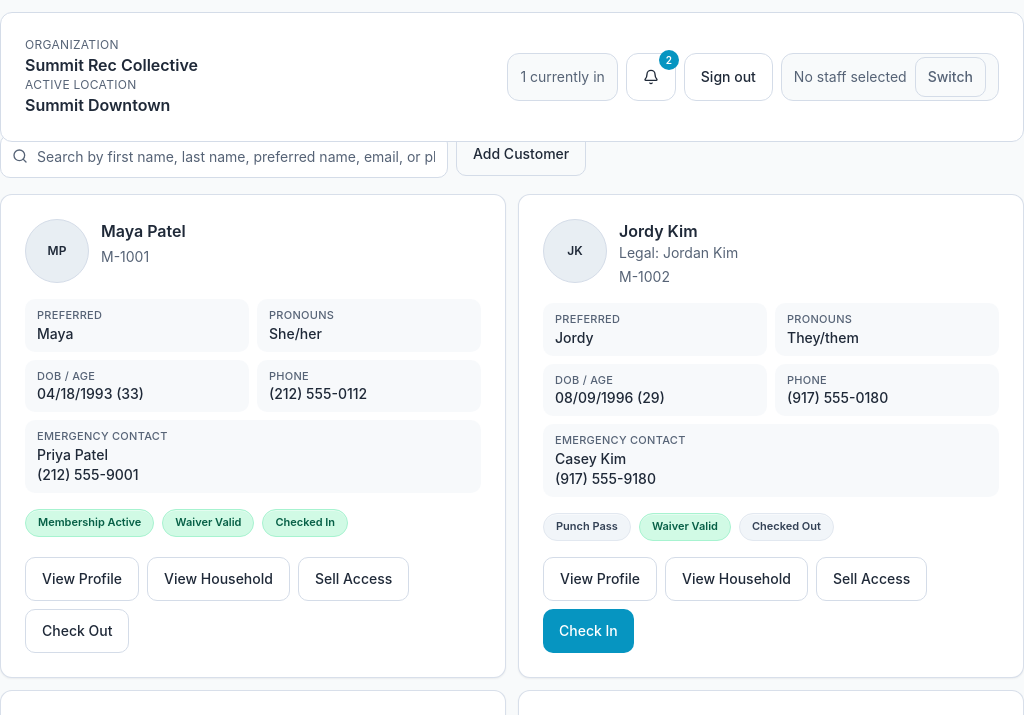
it: CustomerList › customers page check in works with active staff and updates occupancy + badges
Click the button "Switch" at (950, 77), box [915,57,986,97]
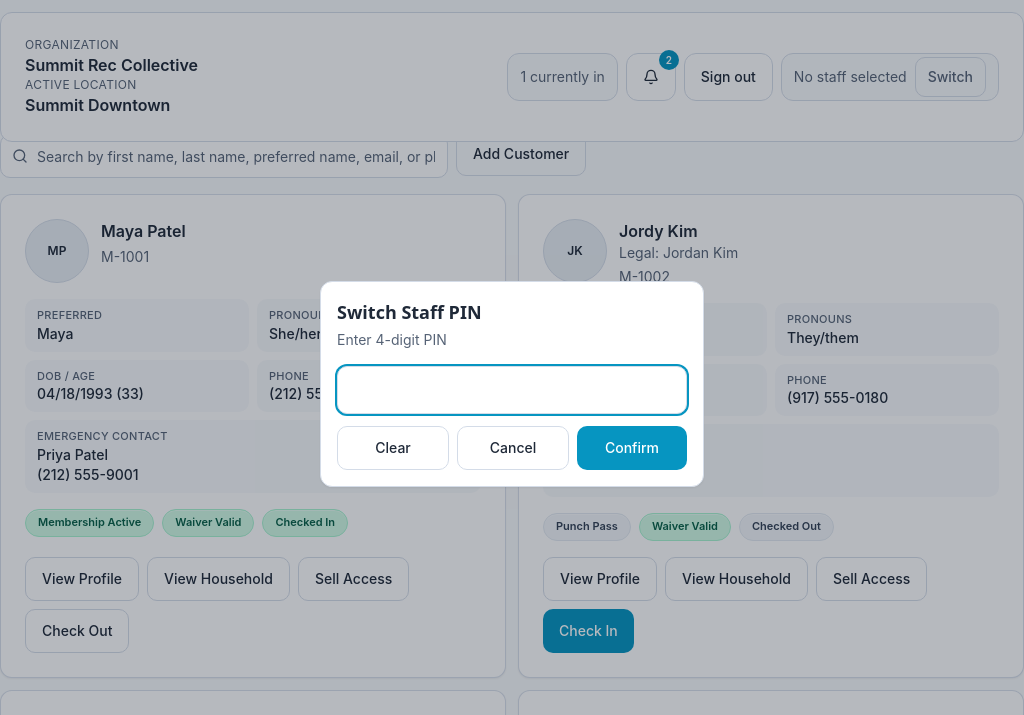
Type "2222" into the password field named "Staff PIN input" at (512, 390), box [337,366,687,414]
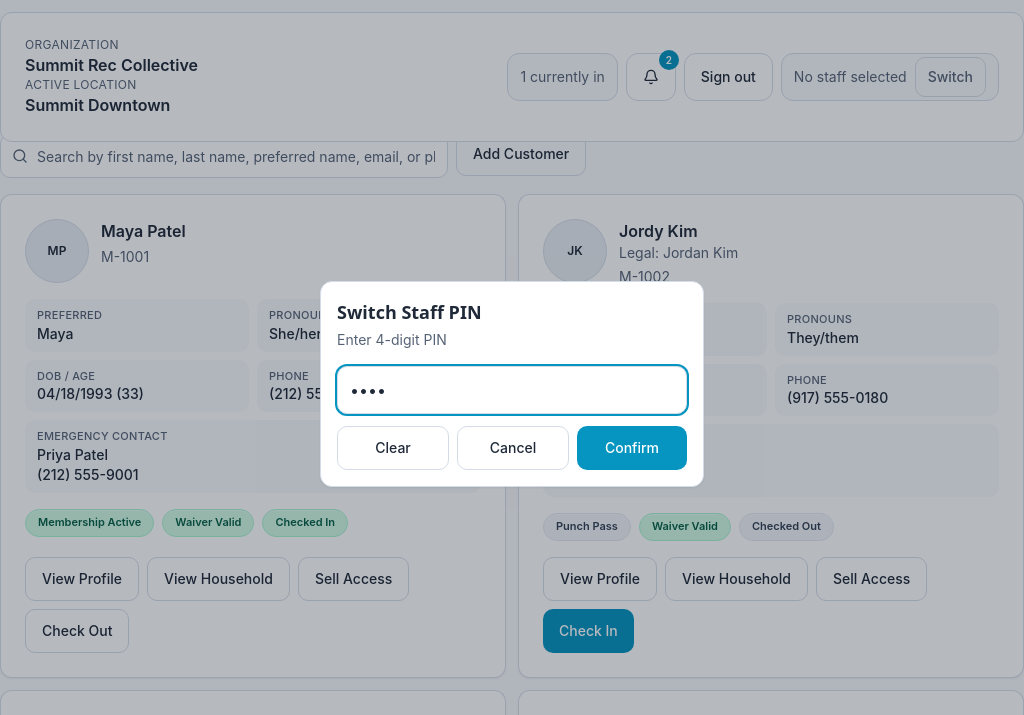
Click the button "Confirm" at (632, 448), box [577,426,687,470]
(page scrolled)
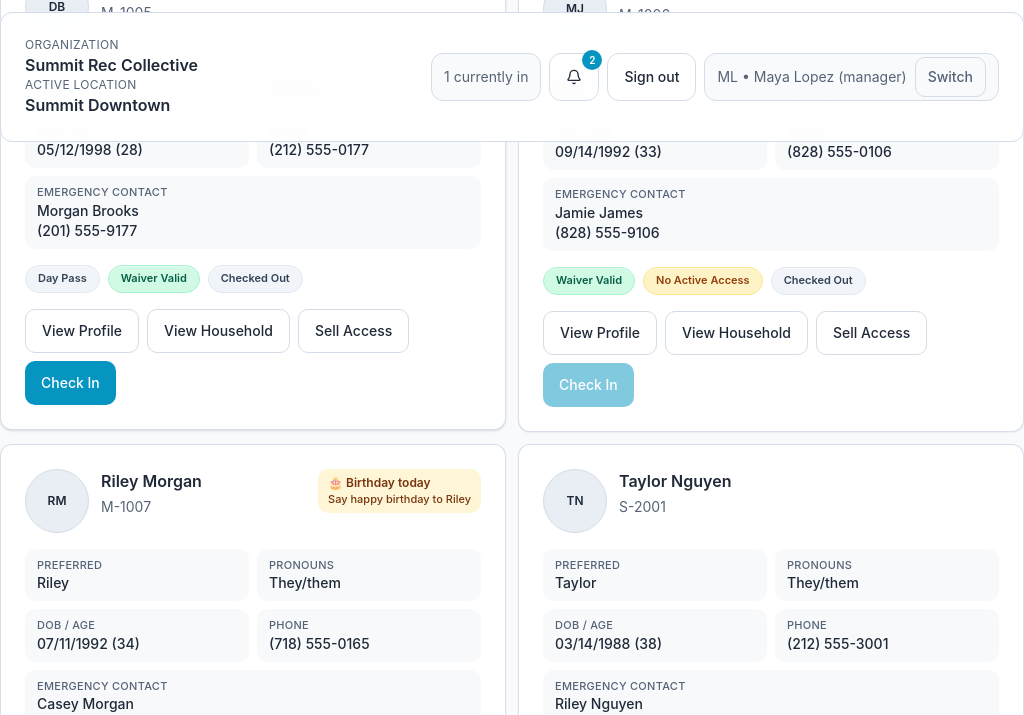
Click the button "Check In" below "Day Pass" at (70, 382), box [25,360,116,404]
(page scrolled)
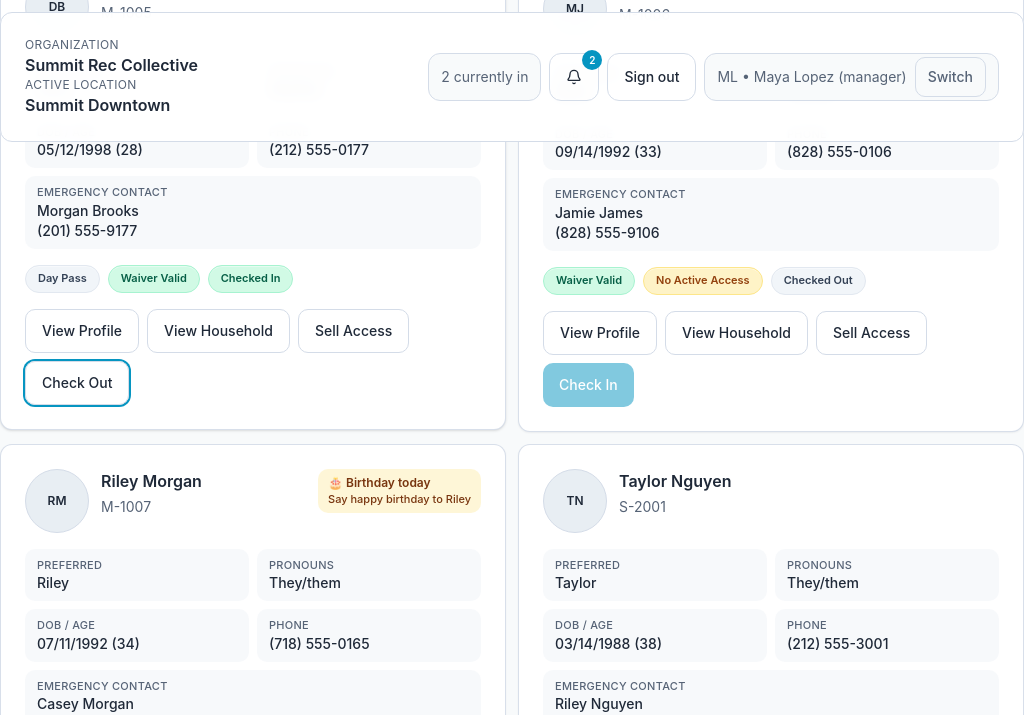
Expected: the link with test id "header-occupancy" reads "2 currently in", [428,53,541,101]
Expected: the text "Checked In" is shown, [208,264,294,292]
